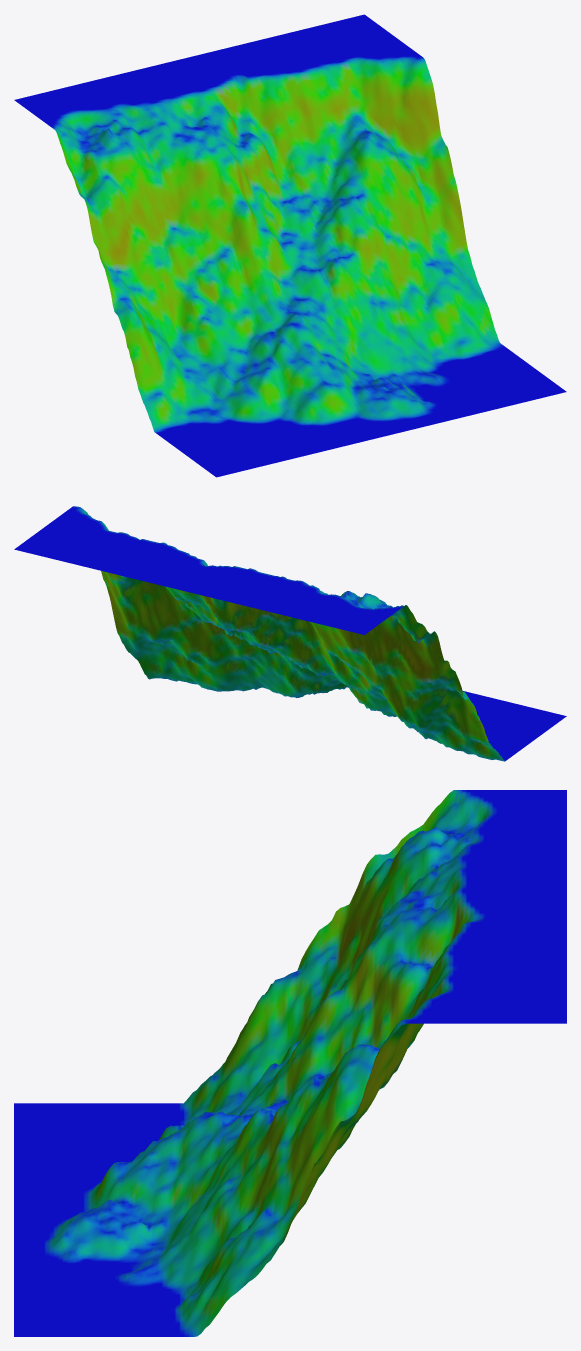
Rendered from Cliff.fbx.
3 views of the same model, one above another, from view 1: azimuth 30°, elevation 25°; view 2: azimuth 150°, elevation 25°; view 3: azimuth 270°, elevation 25° (orthographic). The views are drawn at different scales.
Visible parts, largest first — view 1: Cliff; view 2: Cliff; view 3: Cliff.
Part boxes in pixels (x1,y1,x2,y2): Cliff: (14, 14, 566, 477); Cliff: (14, 506, 566, 761); Cliff: (14, 790, 566, 1336).
Bounding box in the file's own units: 2 × 1.25 × 2.
